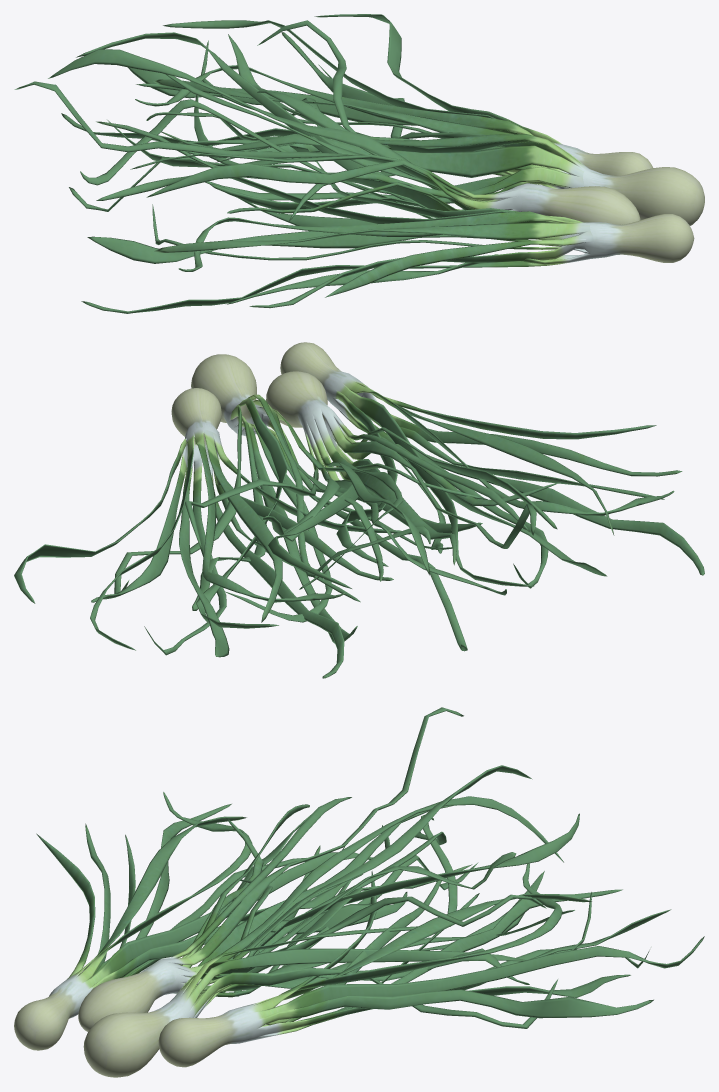
Rendered from Food_025.FBX.
3 renders of one model, top to bottom at view 1: azimuth 30°, elevation 25°; view 2: azimuth 150°, elevation 25°; view 3: azimuth 270°, elevation 25°, orthographic. The views are drawn at different scales.
Parts seen in each view (by area): view 1: Model_025_Spring_Onion_00, Model_025_Spring_Onion_01, Model_025_Spring_Onion_03, Model_025_Spring_Onion_02; view 2: Model_025_Spring_Onion_00, Model_025_Spring_Onion_02, Model_025_Spring_Onion_01, Model_025_Spring_Onion_03; view 3: Model_025_Spring_Onion_02, Model_025_Spring_Onion_01, Model_025_Spring_Onion_03, Model_025_Spring_Onion_00.
Boxes of the visible parts, x1,y1,x2,y2 form: Model_025_Spring_Onion_00: (81,145,694,313); Model_025_Spring_Onion_01: (14,20,640,224); Model_025_Spring_Onion_03: (69,63,704,225); Model_025_Spring_Onion_02: (61,14,652,175); Model_025_Spring_Onion_00: (280,342,704,588); Model_025_Spring_Onion_02: (14,388,401,678); Model_025_Spring_Onion_01: (185,371,560,595); Model_025_Spring_Onion_03: (114,354,487,651); Model_025_Spring_Onion_02: (158,863,704,1067); Model_025_Spring_Onion_01: (78,707,579,1031); Model_025_Spring_Onion_03: (83,814,591,1077); Model_025_Spring_Onion_00: (14,792,407,1050).
Size of the model in its own units: 22.88 by 5.78 by 24.66.
